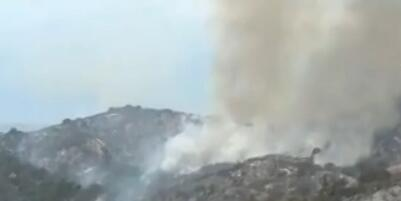smoke: (142, 1, 401, 178)
